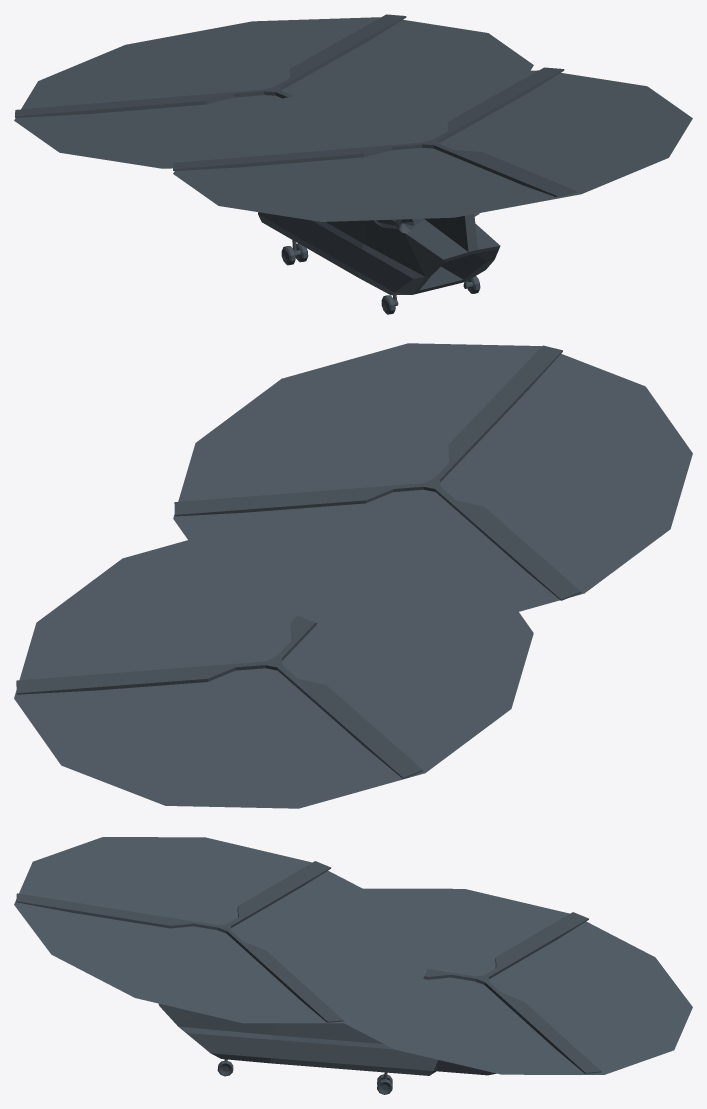
File: Heli-Chinook.glb
3 views of the same model, one above another, from view 1: azimuth 30°, elevation 25°; view 2: azimuth 150°, elevation 25°; view 3: azimuth 270°, elevation 25° (orthographic). The views are drawn at different scales.
Bounding box in the file's own units: 18.47 × 8.72 × 29.45.
